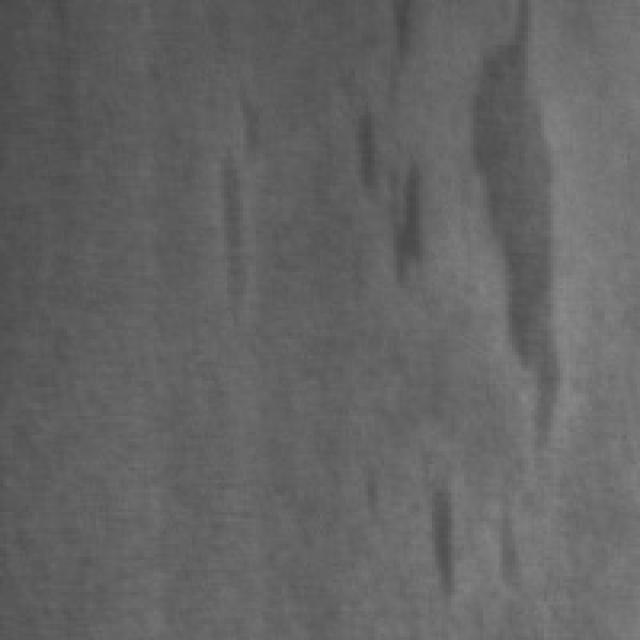inclusion: (467, 0, 576, 454), (352, 0, 445, 285), (368, 464, 534, 602), (218, 80, 272, 320)
